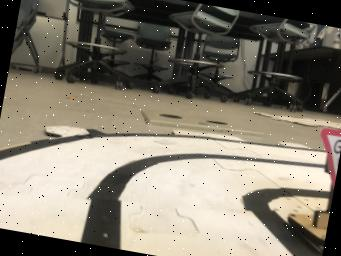give_way: (287, 128, 341, 247), (287, 128, 341, 247), (287, 128, 341, 247), (287, 128, 341, 247), (287, 128, 341, 247), (287, 128, 341, 247)
street: (0, 129, 330, 256), (0, 129, 330, 256), (0, 129, 330, 256), (0, 129, 330, 256), (0, 129, 330, 256), (0, 129, 330, 256)
